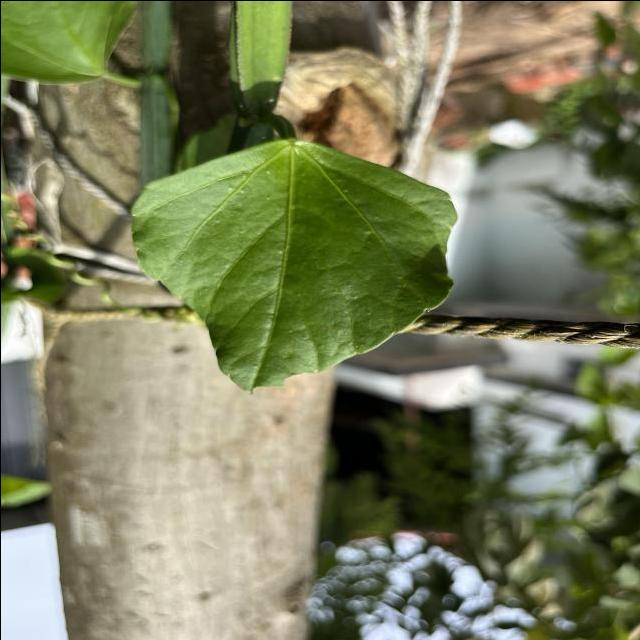Cissus quadrangularis: (124, 136, 463, 398)
